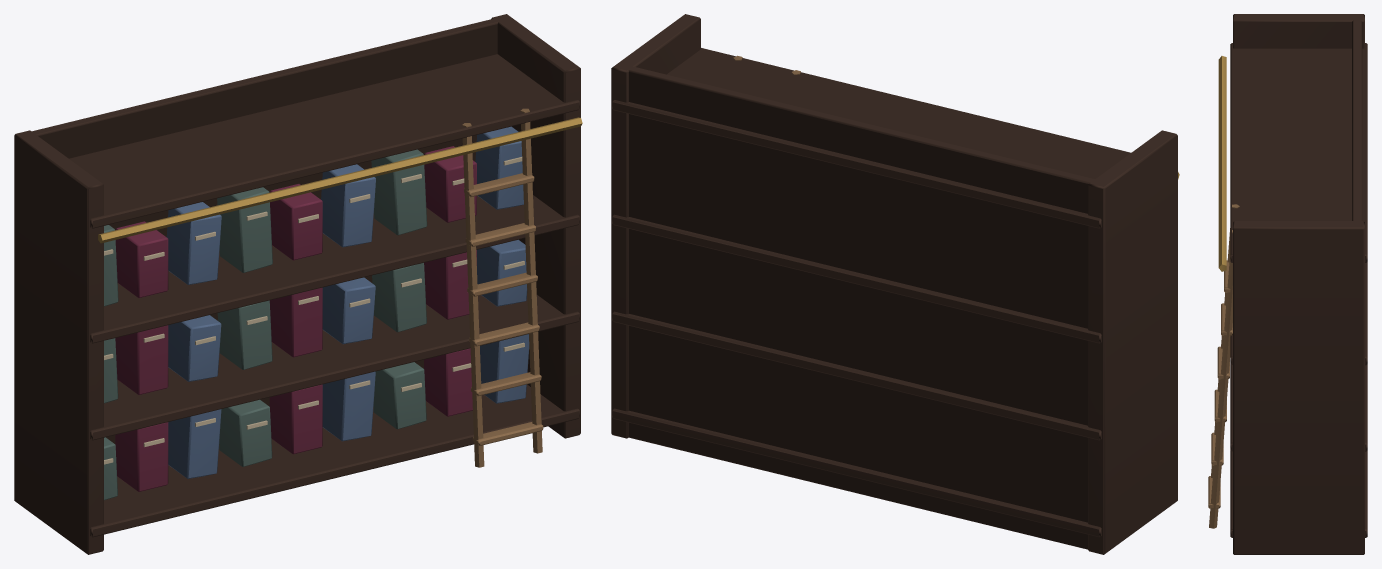
Rendered from shelf_library.glb.
3 views of the same model, side by side, from view 1: azimuth 30°, elevation 25°; view 2: azimuth 150°, elevation 25°; view 3: azimuth 270°, elevation 25° (orthographic). The views are drawn at different scales.
Parts seen in each view (by area): view 1: shelf_library; view 2: shelf_library; view 3: shelf_library.
Boxes of the visible parts, x1,y1,x2,y2 form: shelf_library: (14, 14, 582, 554); shelf_library: (611, 14, 1179, 554); shelf_library: (1208, 14, 1367, 554).
Bounding box in the file's own units: 2.88 × 2.05 × 0.905.
